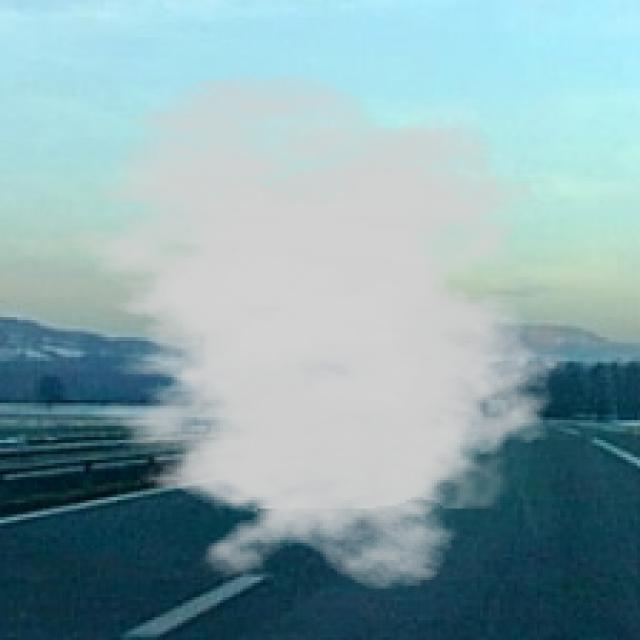Smoke: (34, 71, 577, 592)
